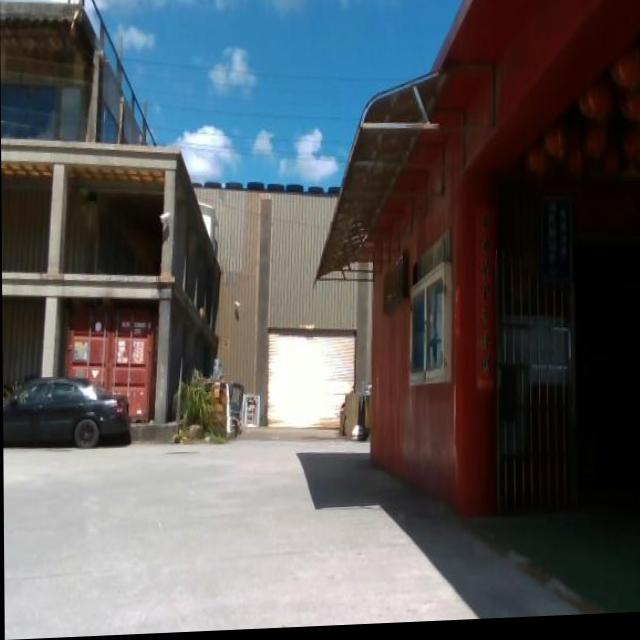pollute: (197, 361, 261, 445), (338, 382, 369, 446)
